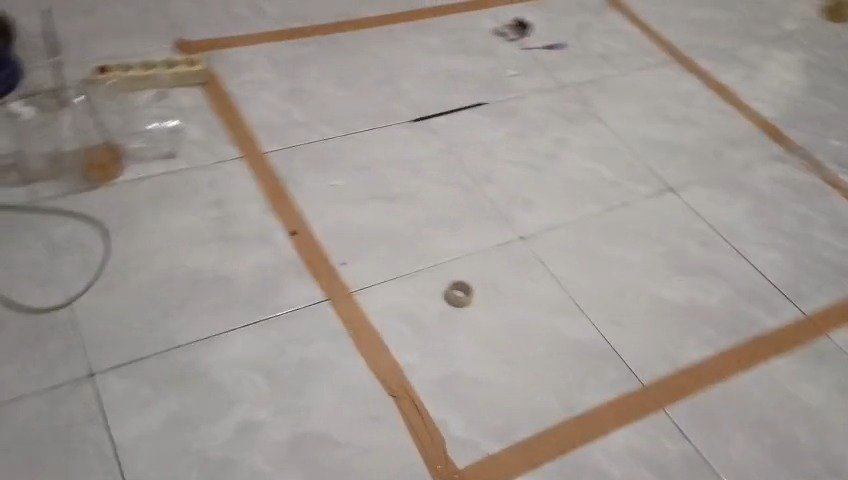floor marking: (205, 74, 847, 479), (609, 0, 847, 199), (177, 0, 533, 53)
